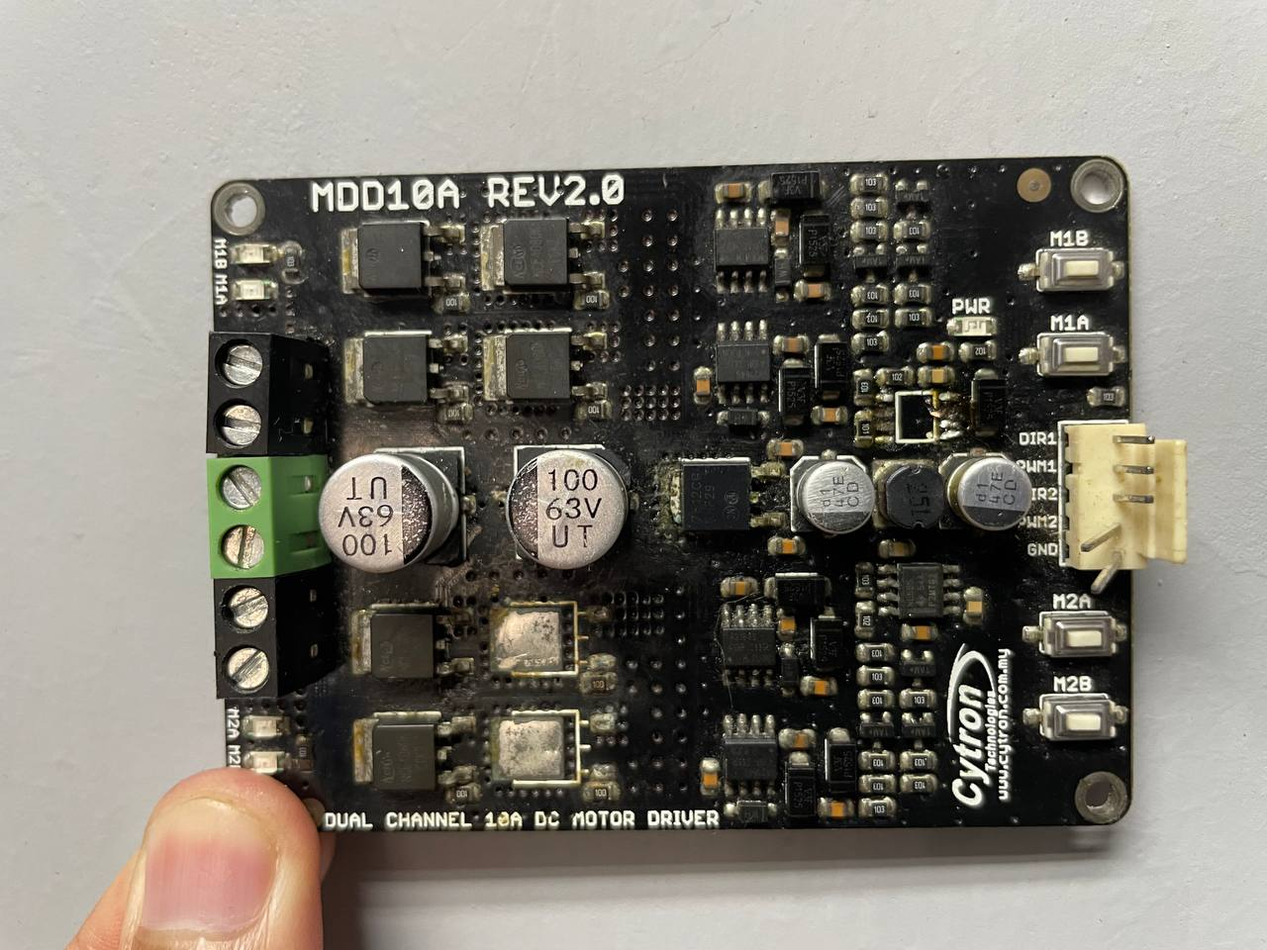bent_pin: (1083, 550, 1130, 598), (1074, 521, 1127, 556)
missing_comp: (499, 706, 594, 792), (493, 596, 585, 680), (892, 388, 942, 444)
